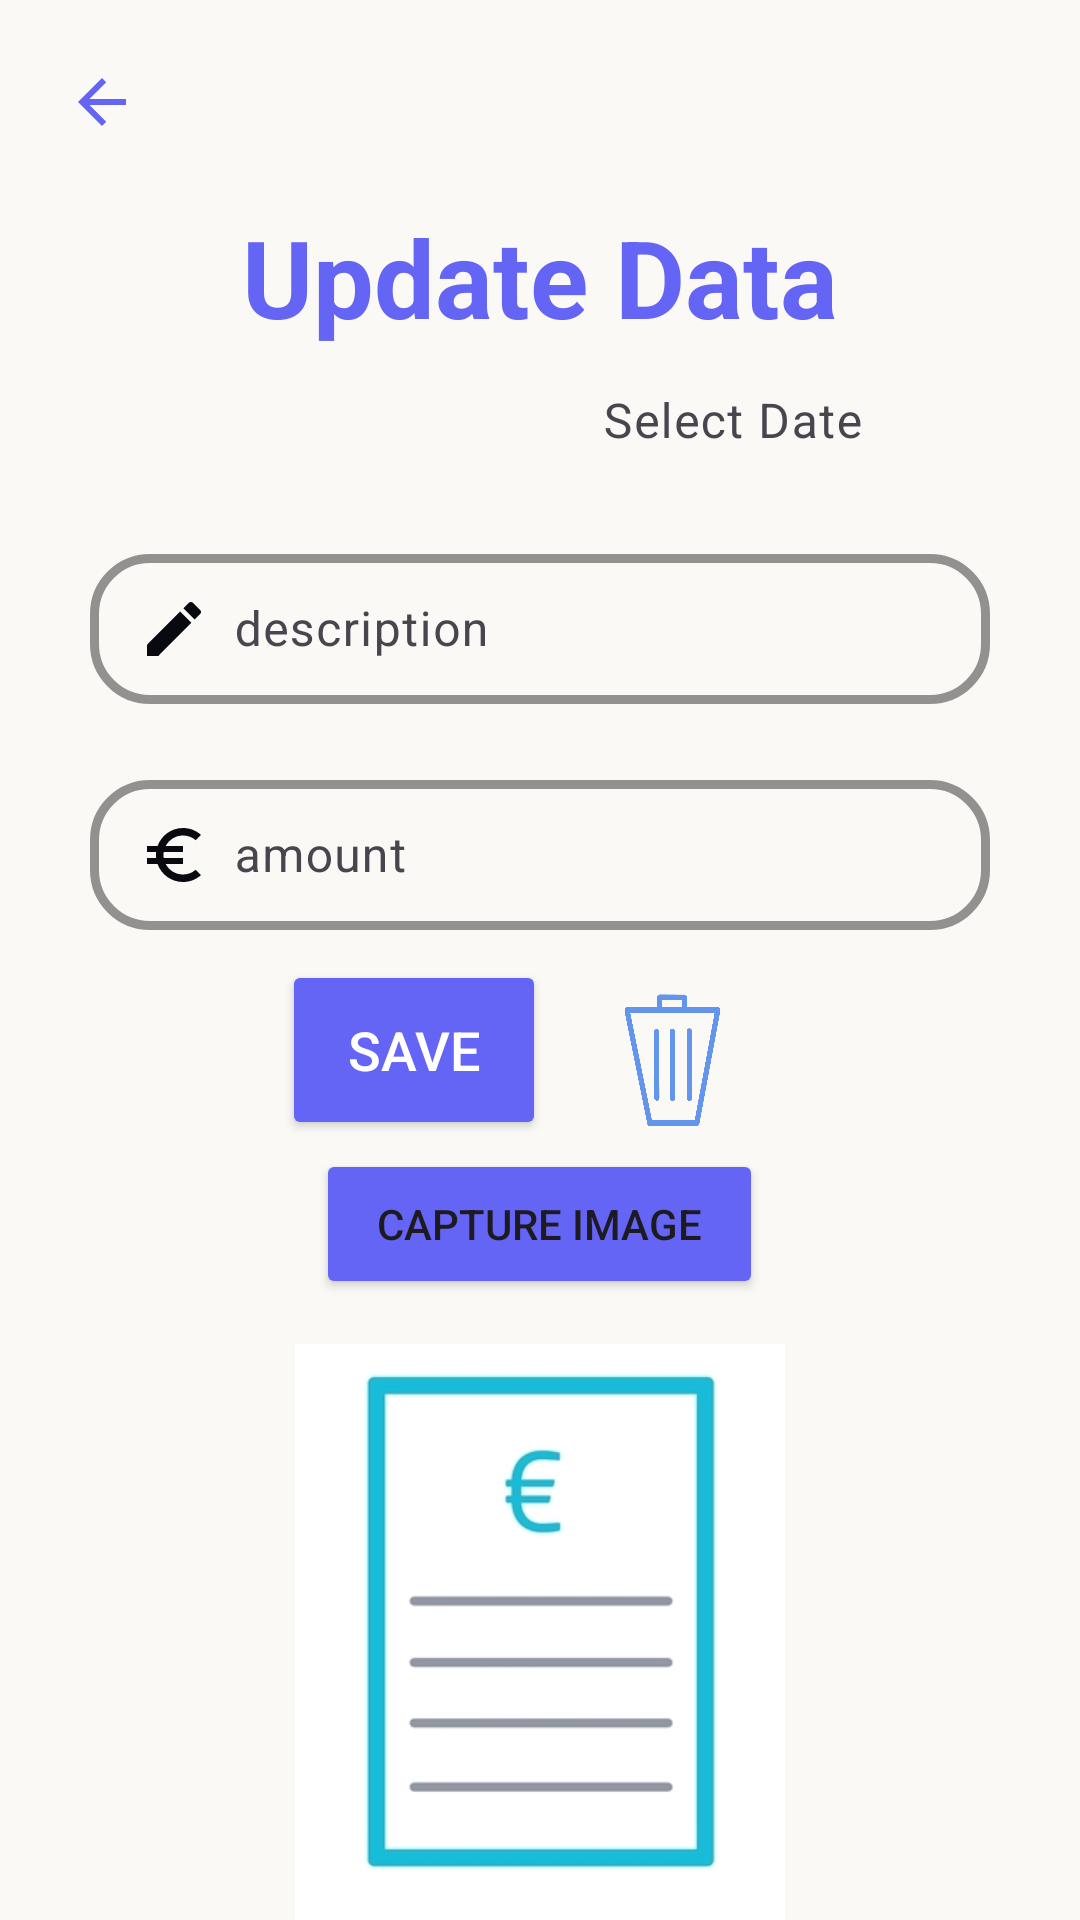

Icon bounding boxes for this 1080w x 1920h phone screenshot, format (x1, y1, x2, y2):
arrow back: (78, 78, 126, 126)
